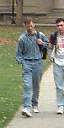person: (16, 21, 49, 115)
